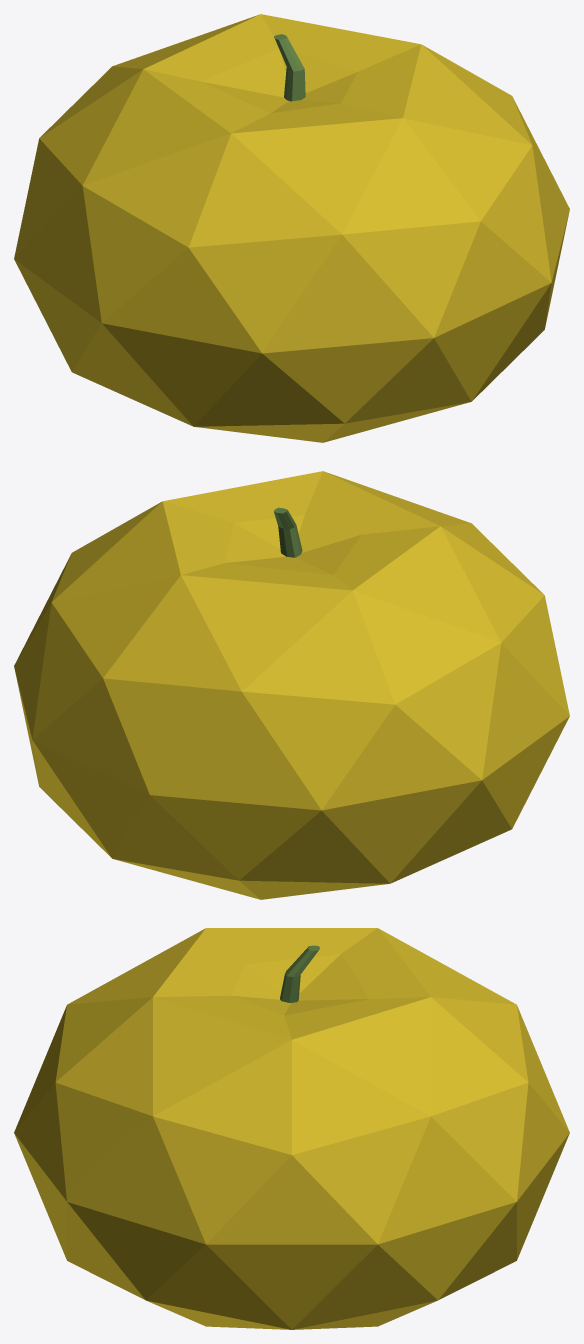
Rendered from Tangerin_01.fbx.
3 renders of one model, top to bottom at view 1: azimuth 30°, elevation 25°; view 2: azimuth 150°, elevation 25°; view 3: azimuth 270°, elevation 25°, orthographic. The views are drawn at different scales.
Visible parts, largest first — view 1: Tangerin_01; view 2: Tangerin_01; view 3: Tangerin_01.
Part boxes in pixels (left/top/right/bottom): Tangerin_01: left=14, top=14, right=569, bottom=442; Tangerin_01: left=14, top=471, right=569, bottom=899; Tangerin_01: left=14, top=928, right=569, bottom=1329.
Size of the model in its own units: 8.3 by 5.69 by 8.73.
